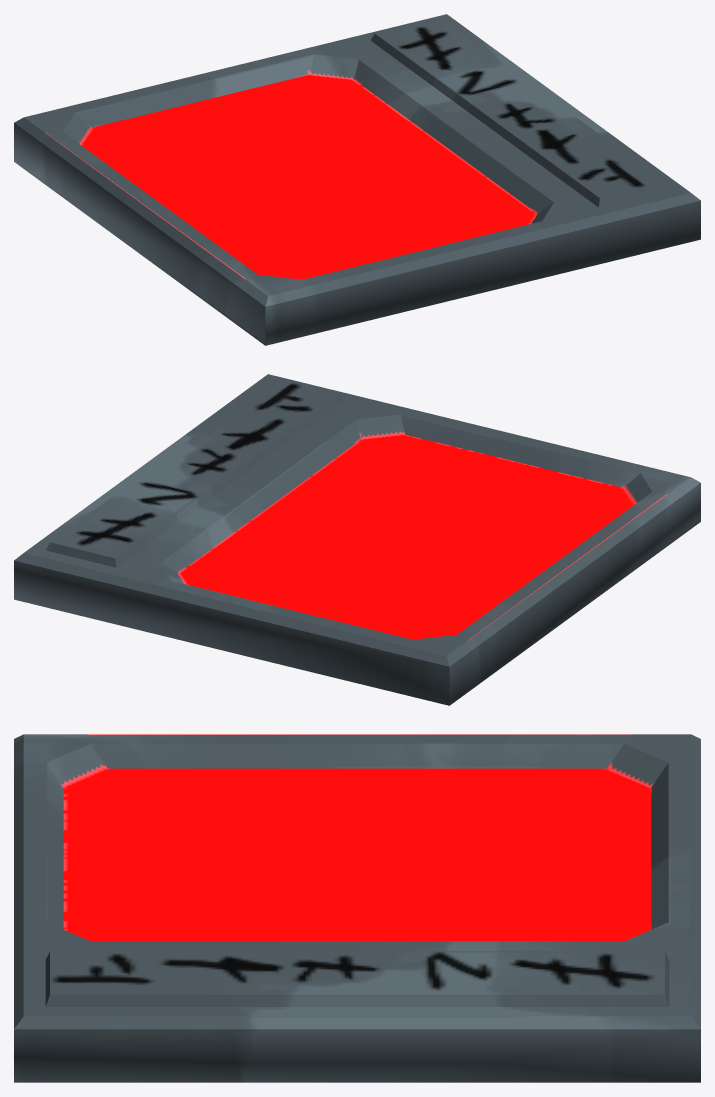
Rendered from Card.fbx.
3 views of the same model, one above another, from view 1: azimuth 30°, elevation 25°; view 2: azimuth 150°, elevation 25°; view 3: azimuth 270°, elevation 25° (orthographic). The views are drawn at different scales.
Parts seen in each view (by area): view 1: SM_Screen_001; view 2: SM_Screen_001; view 3: SM_Screen_001.
Boxes of the visible parts, <box> form: SM_Screen_001: <box>14,14,700,345</box>; SM_Screen_001: <box>14,374,700,705</box>; SM_Screen_001: <box>14,734,700,1082</box>.
Size of the model in its own units: 28.93 by 3.37 by 28.93.
